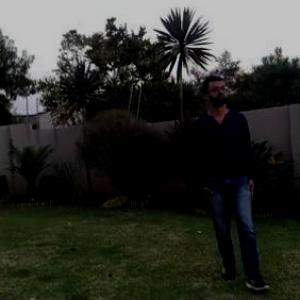follow: (187, 38, 268, 295)
